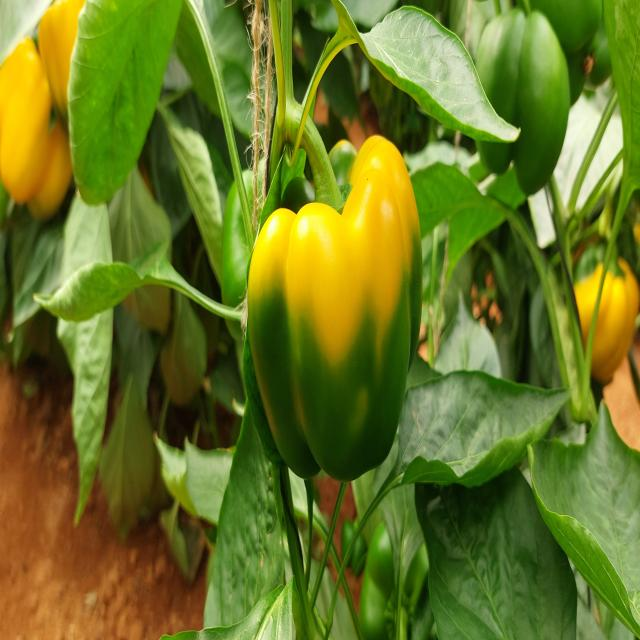Green--Not-ready-to-harvest: (477, 26, 589, 207)
GreenishYellow--Can-be-Harvested: (240, 141, 436, 456)
Yellow-Ready-to-Harvest: (2, 5, 114, 247)
